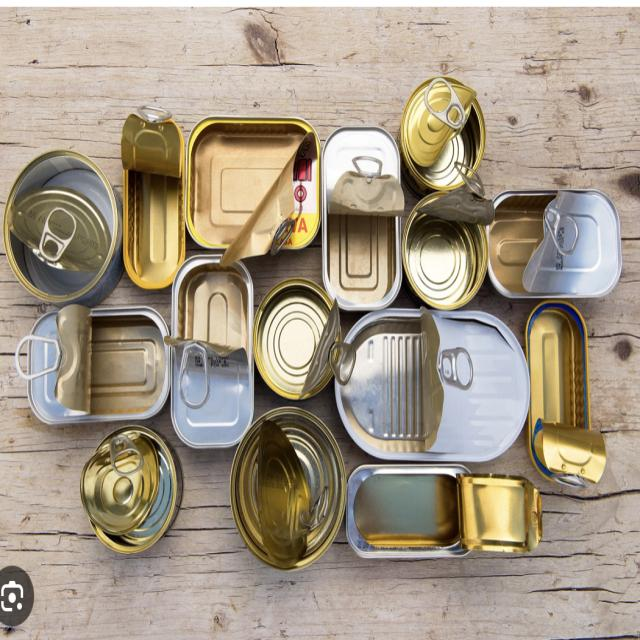recyclable: (323, 303, 531, 467), (330, 455, 557, 573), (152, 245, 268, 463), (184, 98, 328, 266), (222, 400, 349, 578), (3, 139, 129, 310), (9, 307, 187, 418), (516, 298, 610, 496), (485, 176, 629, 302), (73, 421, 189, 572), (239, 263, 358, 405), (116, 84, 193, 297), (391, 61, 495, 196), (402, 178, 504, 314)
